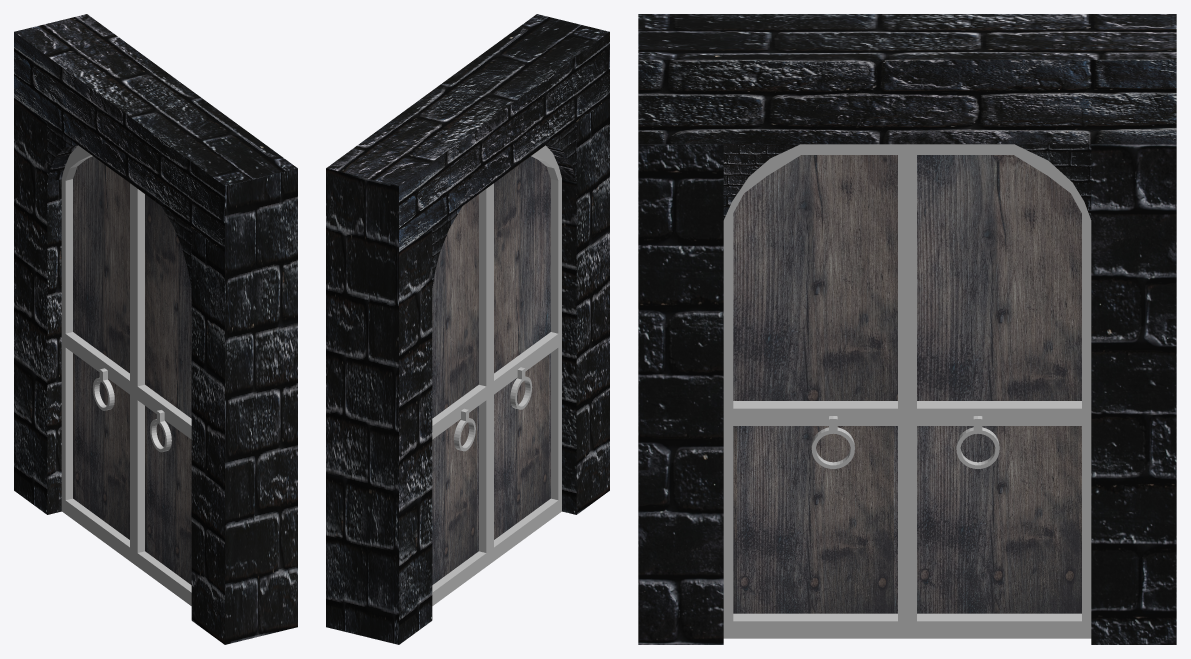
File: archway_2_with_door.fbx
3 views of the same model, side by side, from view 1: azimuth 30°, elevation 25°; view 2: azimuth 150°, elevation 25°; view 3: azimuth 270°, elevation 25° (orthographic). The views are drawn at different scales.
Parts seen in each view (by area): view 1: Arch, Door, HandleRight.001, HandleLeft.001; view 2: Arch, Door, HandleLeft.001, HandleRight.001; view 3: Door, Arch, HandleLeft, HandleRight.
Part boxes in pixels (<box>): Arch: <box>14,14,297,644</box>; Door: <box>61,145,191,605</box>; HandleRight.001: <box>93,368,114,410</box>; HandleLeft.001: <box>150,410,171,452</box>; Arch: <box>326,14,609,644</box>; Door: <box>432,145,561,605</box>; HandleLeft.001: <box>510,367,532,409</box>; HandleRight.001: <box>454,408,475,451</box>; Door: <box>723,144,1091,638</box>; Arch: <box>638,14,1176,644</box>; HandleLeft: <box>811,416,854,468</box>; HandleRight: <box>956,416,999,468</box>.
Size of the model in its own units: 40 by 240 by 200.
